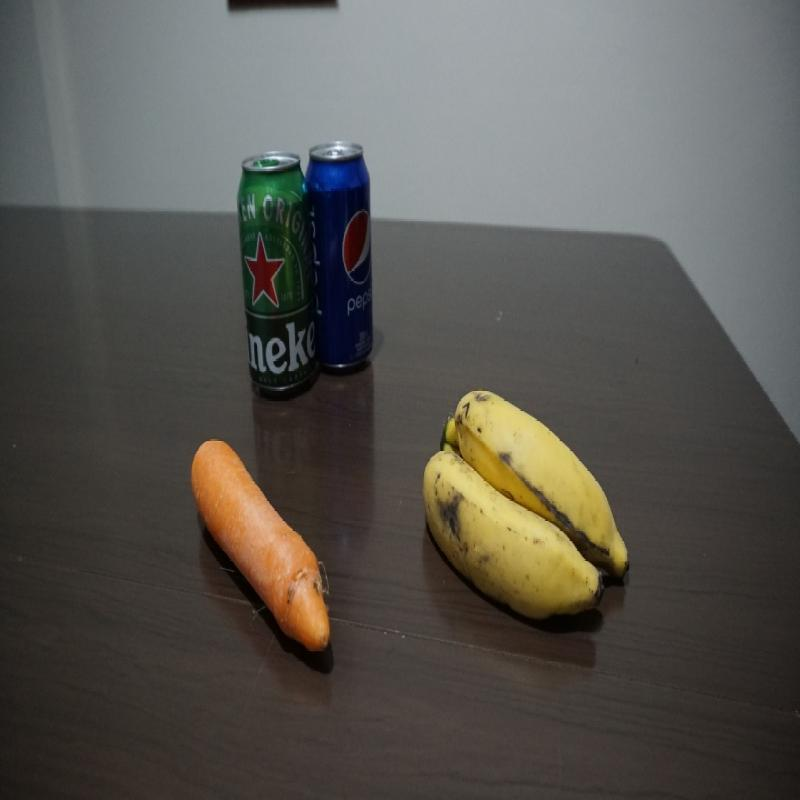Banana: (422, 389, 630, 624)
Beer can: (237, 152, 319, 401)
Carrot: (192, 438, 331, 654)
Soda can: (304, 139, 374, 374)
